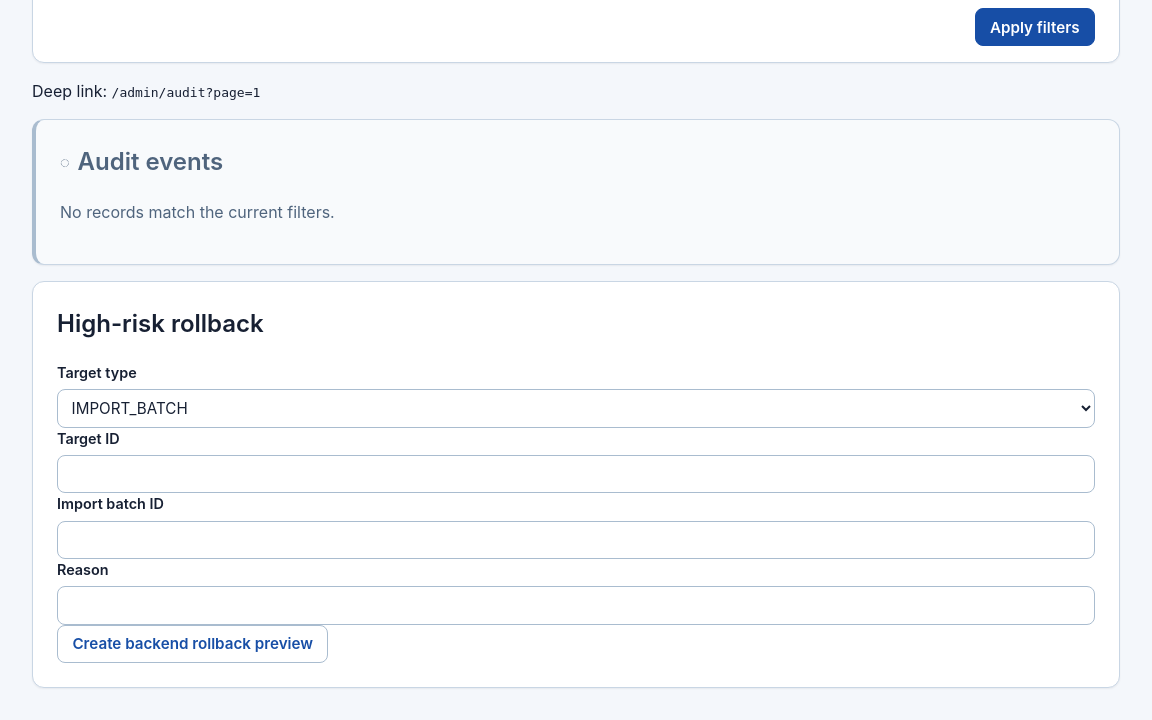
Scenario: audit history and rollback workflows › clears stale rollback previews and reports preview authorization failures
The width and height of the screenshot is (1152, 720).
(page scrolled)
Click the button "Create backend rollback preview": (193, 644) [57, 624, 328, 663]
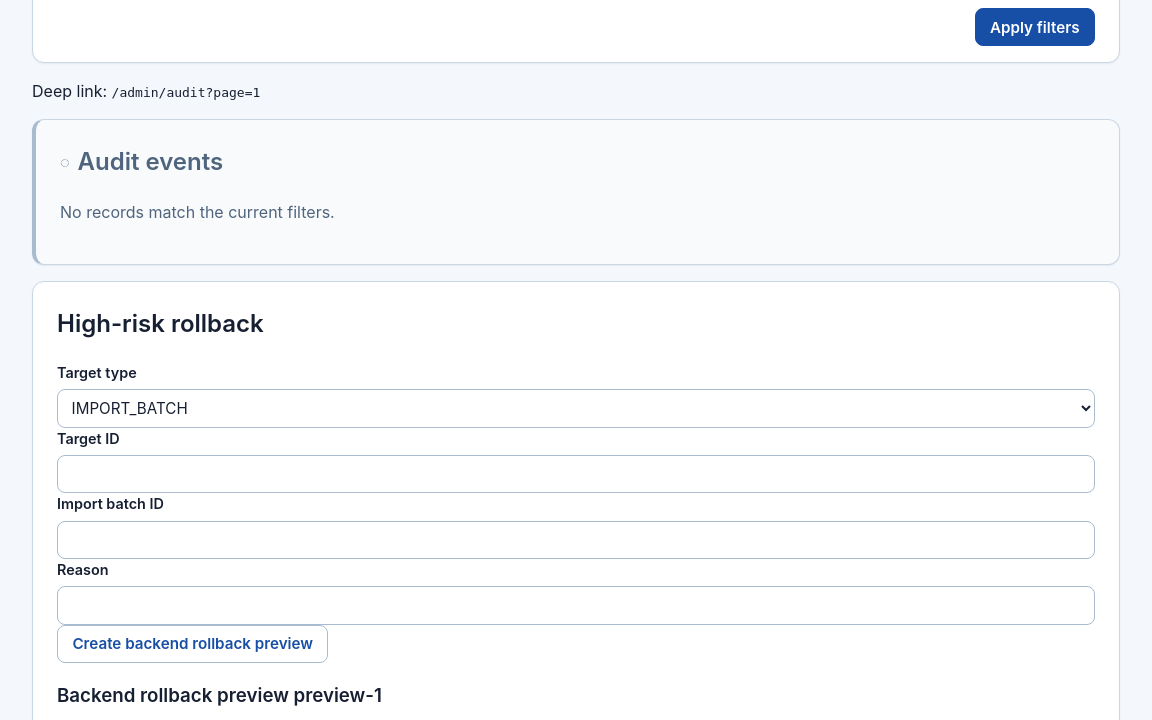
expect the text "Backend rollback preview preview-1" is shown: met, box [57, 684, 382, 707]
Click the button "Create backend rollback preview": (193, 644) [57, 624, 328, 663]
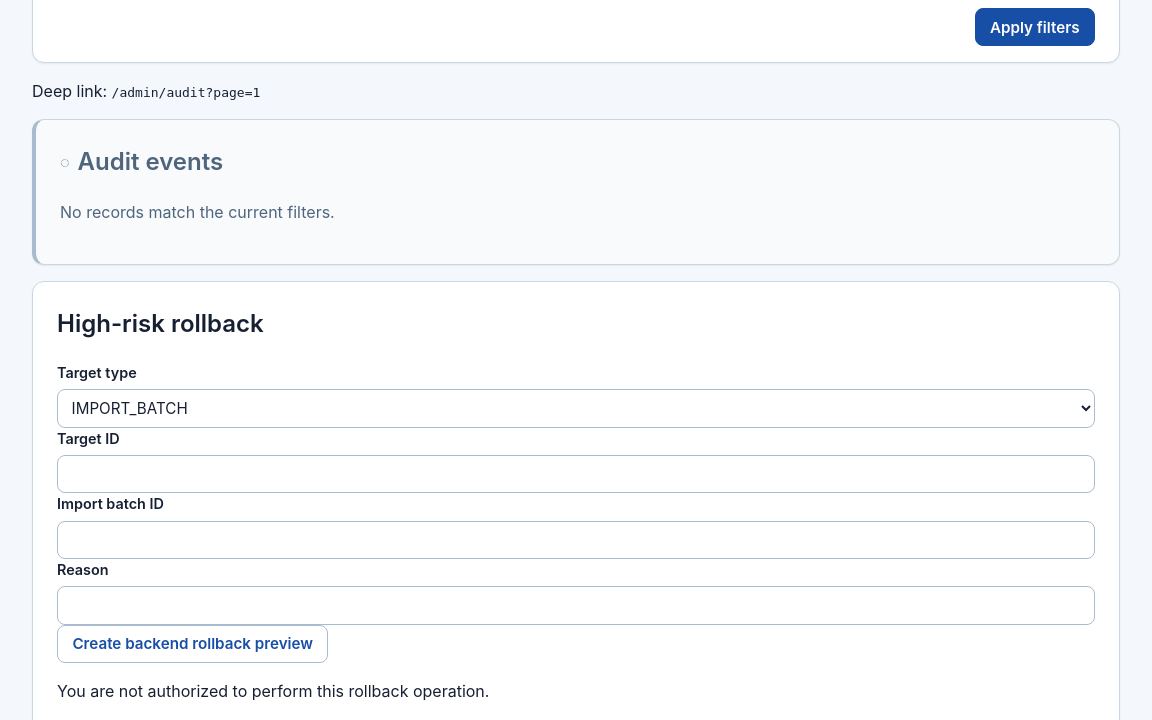
expect the text "Backend rollback preview preview-1" is gone: met
expect the text "You are not authorized to perform this rollback operation." is shown: met, box [57, 681, 489, 701]
